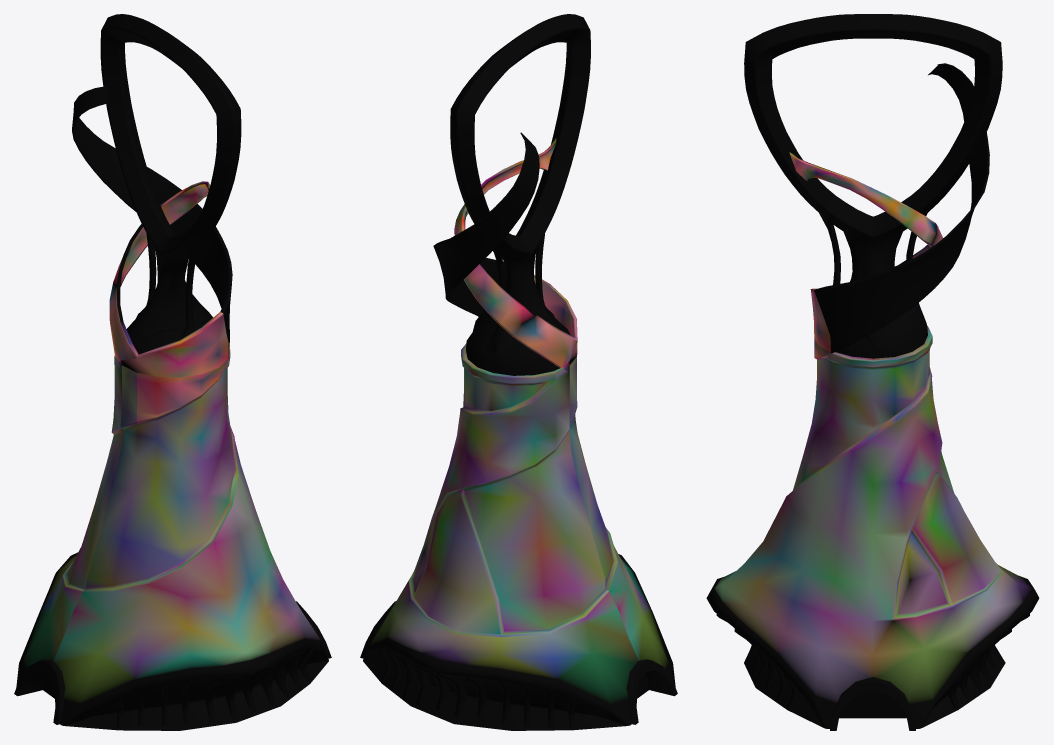
Rendered from CS_Statue_SM.gltf.
The picture shows the model from 3 angles, left to right: view 1: azimuth 30°, elevation 25°; view 2: azimuth 150°, elevation 25°; view 3: azimuth 270°, elevation 25°; orthographic projection.
Parts seen in each view (by area): view 1: CS_Statue_SM; view 2: CS_Statue_SM; view 3: CS_Statue_SM.
Part boxes in pixels (x1=…): CS_Statue_SM: x1=14, y1=14, x2=331, y2=730; CS_Statue_SM: x1=360, y1=14, x2=677, y2=730; CS_Statue_SM: x1=706, y1=14, x2=1039, y2=730.
Size of the model in its own units: 17.93 by 39.88 by 18.57.
